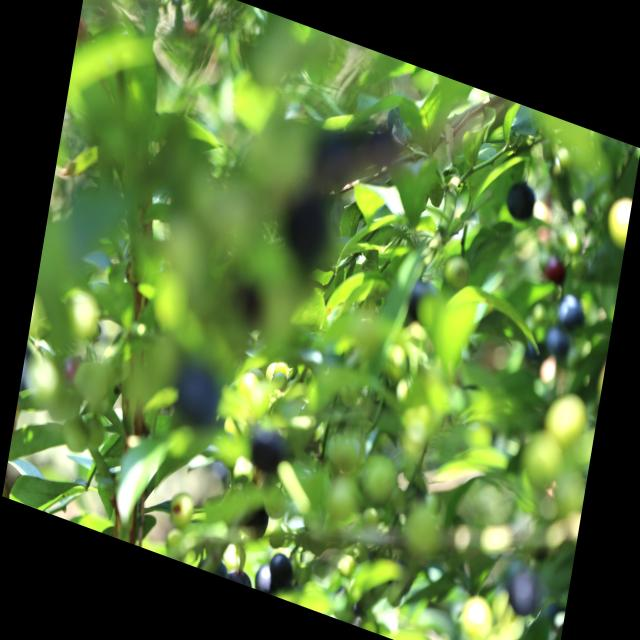blueberry: (501, 559, 542, 624), (553, 282, 593, 338), (264, 544, 300, 599), (506, 174, 543, 226), (540, 321, 572, 367), (251, 557, 281, 597)
blueberry-unripe: (604, 192, 633, 248)
